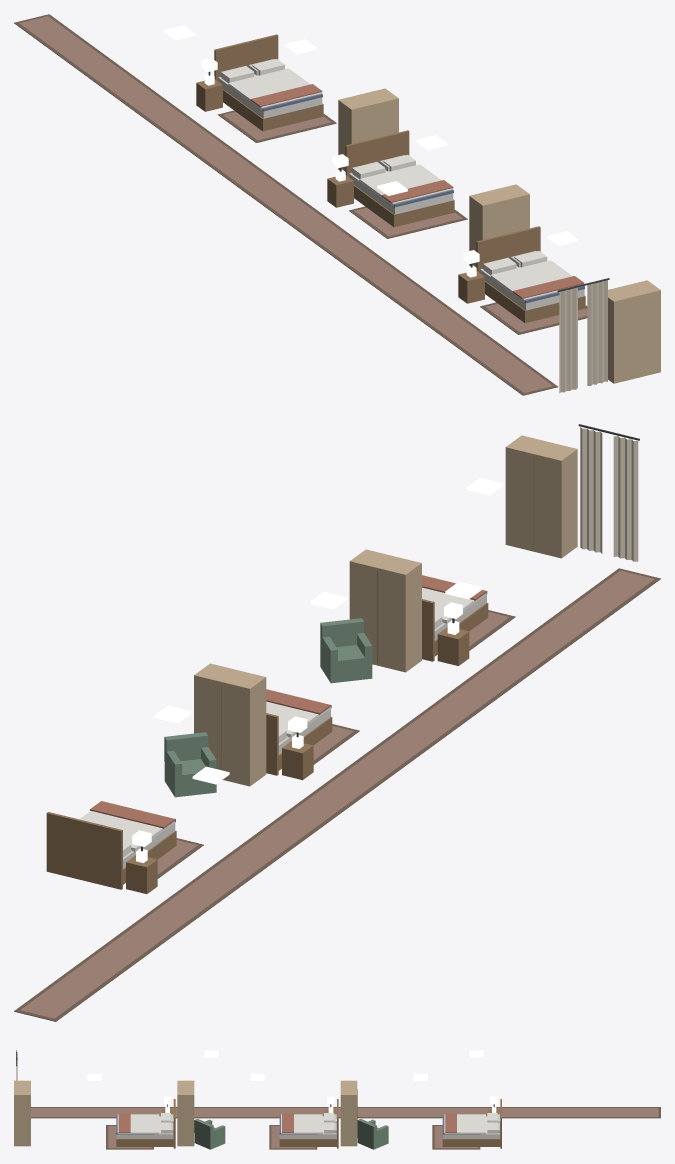
Rendered from fine-s1.glb.
3 views of the same model, one above another, from view 1: azimuth 30°, elevation 25°; view 2: azimuth 150°, elevation 25°; view 3: azimuth 270°, elevation 25° (orthographic). The views are drawn at different scales.
Parts seen in each view (by area): view 1: soft-s1, dresser.002, bed-frame.000, bed-frame.001, bed-frame.002, dresser.001, dresser.000, nightstand.000, nightstand.002, nightstand.001; view 2: soft-s1, dresser.002, dresser.001, dresser.000, bed-frame.000, lounge-chair.001, lounge-chair.000, bed-frame.002, bed-frame.001, nightstand.002, nightstand.001, nightstand.000; view 3: soft-s1, dresser.001, dresser.000, dresser.002, bed-frame.002, bed-frame.000, bed-frame.001, lounge-chair.000, lounge-chair.001.
Part boxes in pixels (bbox=[...]): soft-s1: bbox=[14, 14, 609, 395]; dresser.002: bbox=[608, 280, 660, 383]; bed-frame.000: bbox=[214, 34, 323, 131]; bed-frame.001: bbox=[345, 130, 454, 227]; bed-frame.002: bbox=[476, 226, 585, 323]; dresser.001: bbox=[469, 184, 529, 267]; dresser.000: bbox=[338, 88, 398, 171]; nightstand.000: bbox=[196, 73, 222, 111]; nightstand.002: bbox=[458, 265, 484, 303]; nightstand.001: bbox=[327, 169, 353, 207]; soft-s1: bbox=[14, 424, 660, 1021]; dresser.002: bbox=[505, 435, 577, 558]; dresser.001: bbox=[349, 549, 421, 672]; dresser.000: bbox=[194, 663, 266, 786]; bed-frame.000: bbox=[46, 812, 176, 889]; lounge-chair.001: bbox=[320, 618, 372, 683]; lounge-chair.000: bbox=[164, 732, 216, 797]; bed-frame.002: bbox=[422, 591, 488, 661]; bed-frame.001: bbox=[266, 705, 332, 775]; nightstand.002: bbox=[437, 620, 469, 665]; nightstand.001: bbox=[282, 734, 313, 780]; nightstand.000: bbox=[126, 848, 157, 893]; soft-s1: bbox=[16, 1050, 660, 1149]; dresser.001: bbox=[177, 1080, 194, 1146]; dresser.000: bbox=[340, 1080, 357, 1146]; dresser.002: bbox=[14, 1080, 30, 1146]; bed-frame.002: bbox=[116, 1099, 175, 1148]; bed-frame.000: bbox=[442, 1099, 501, 1148]; bed-frame.001: bbox=[279, 1099, 338, 1148]; lounge-chair.000: bbox=[357, 1119, 388, 1149]; lounge-chair.001: bbox=[194, 1118, 225, 1149].
Size of the model in its own units: 3.55 by 2.56 by 22.92.
